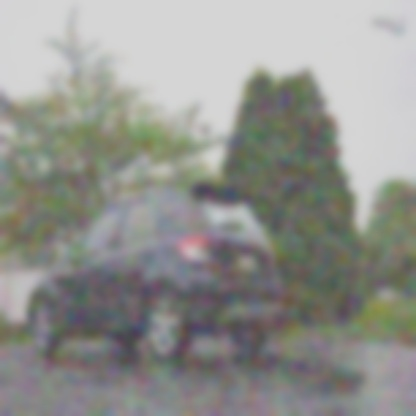Vehicle: (27, 185, 283, 365)
